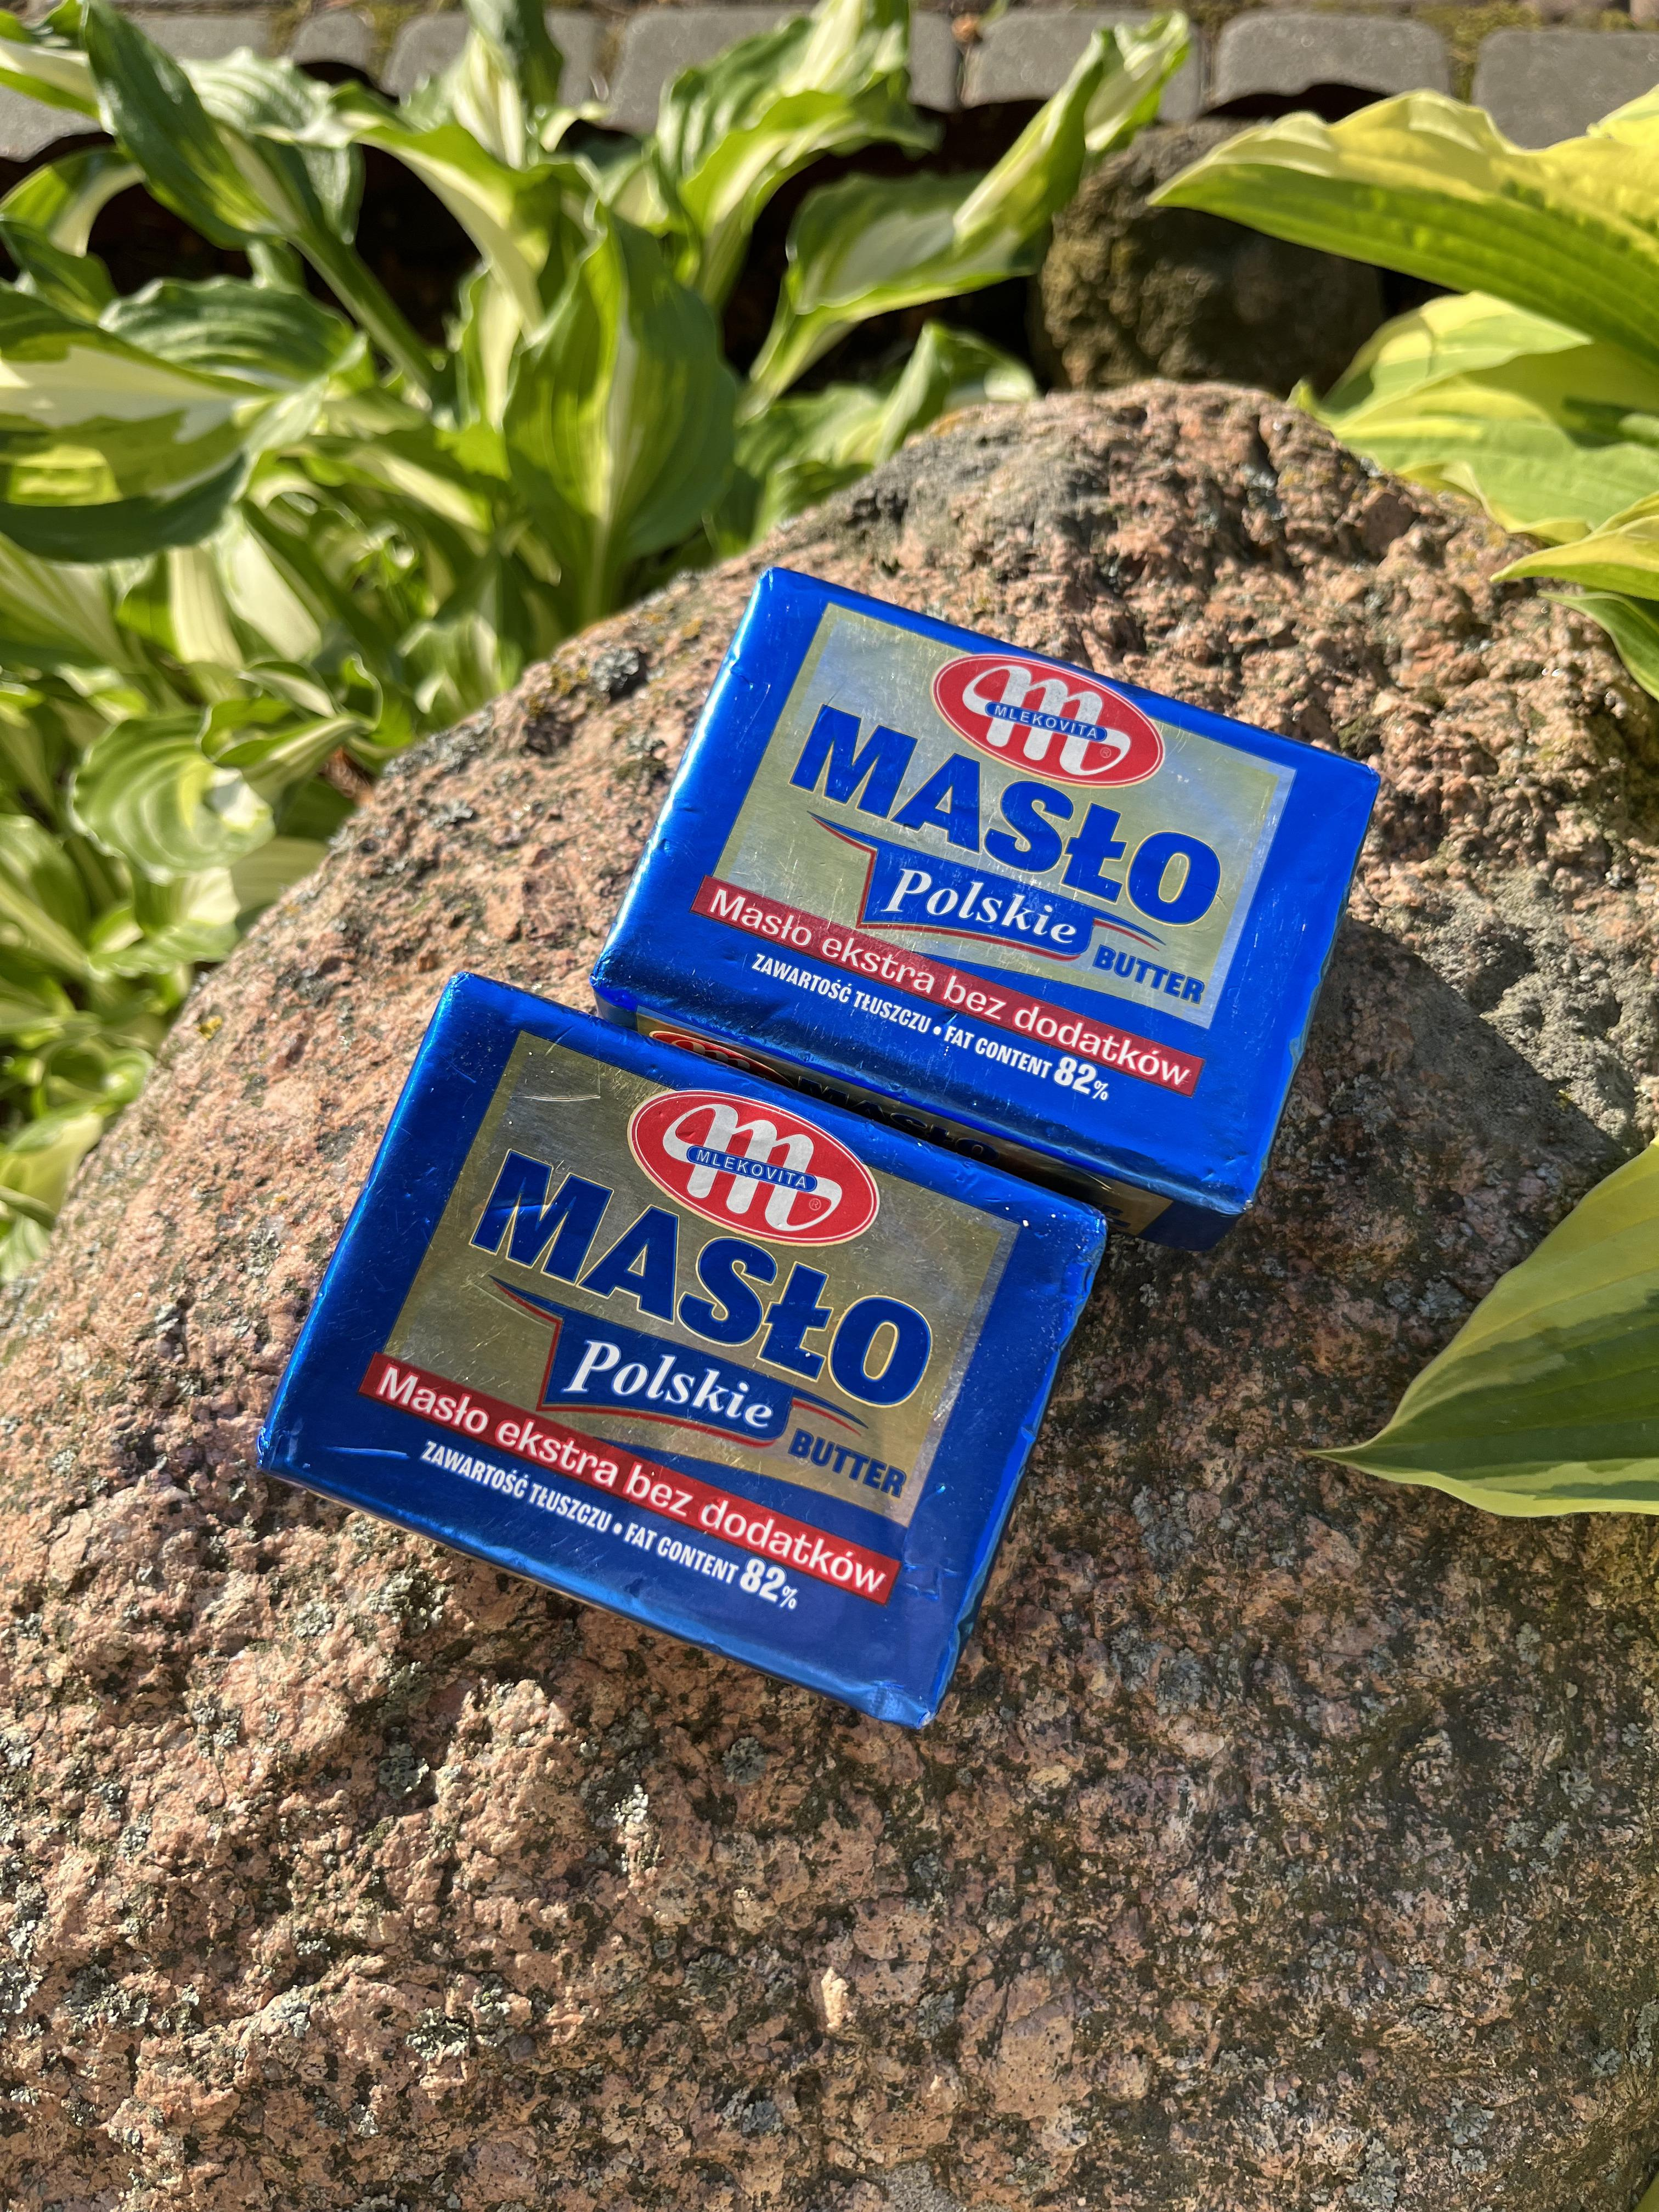Butter: (422, 1022, 1000, 1665), (748, 561, 1262, 1134)
